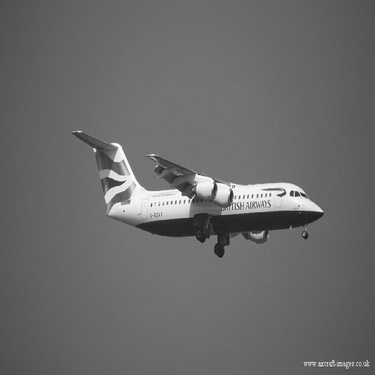airplane: (63, 127, 328, 258)
